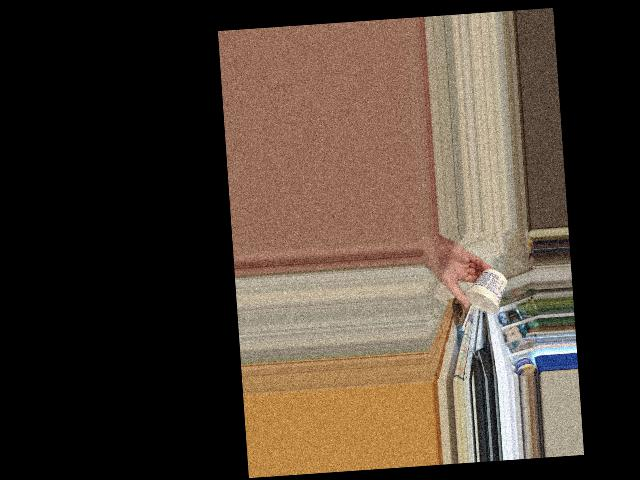cotage: (464, 266, 505, 316)
